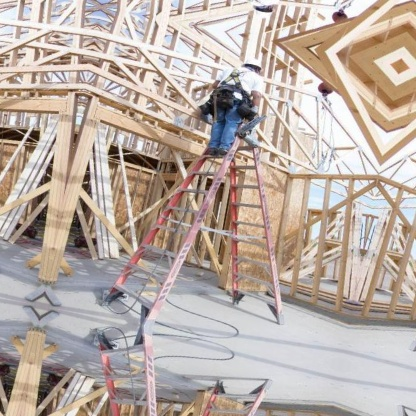white: (240, 54, 271, 72)
